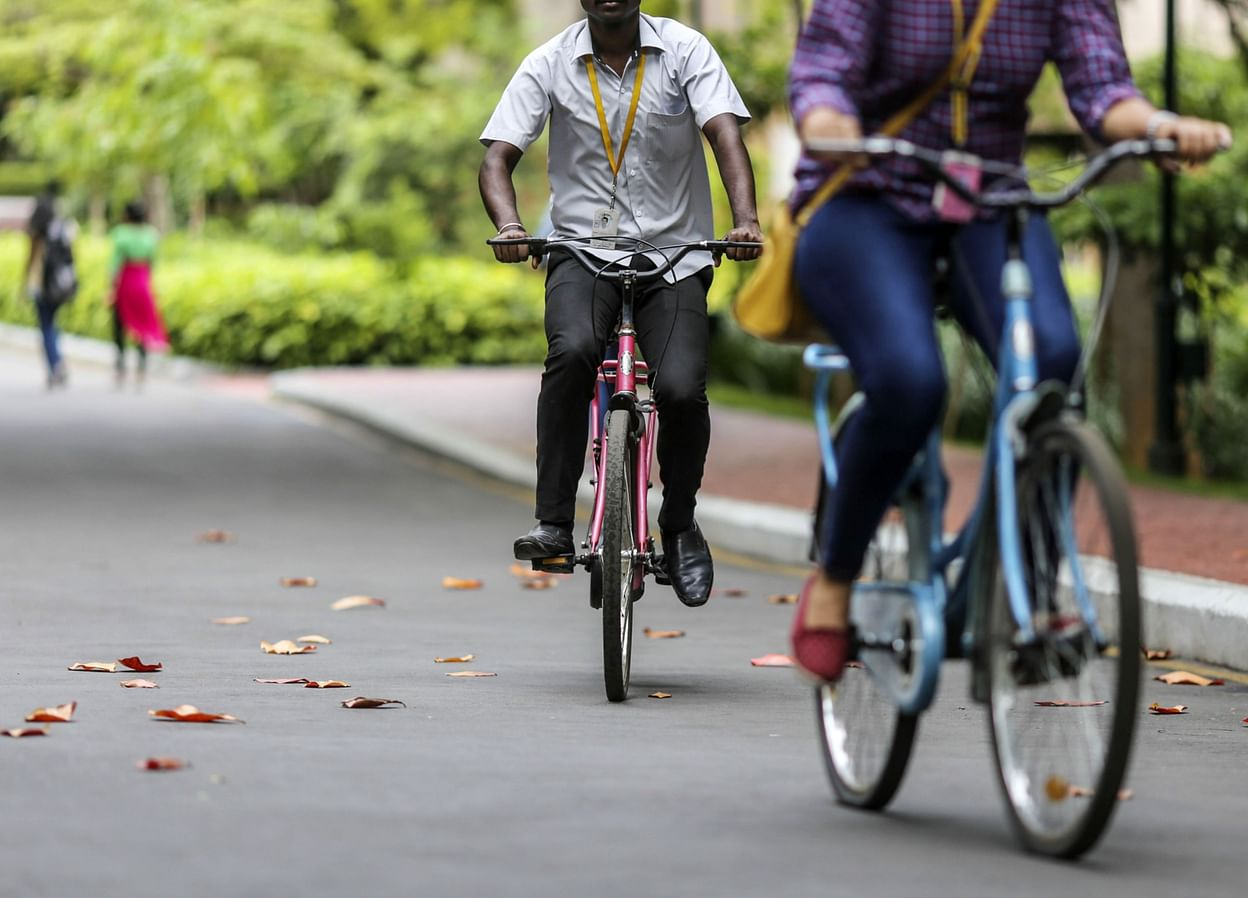bicycle: (804, 130, 1179, 862), (485, 230, 763, 707)
person: (787, 2, 1224, 684), (474, 2, 756, 612), (91, 194, 167, 398), (15, 184, 85, 392)
